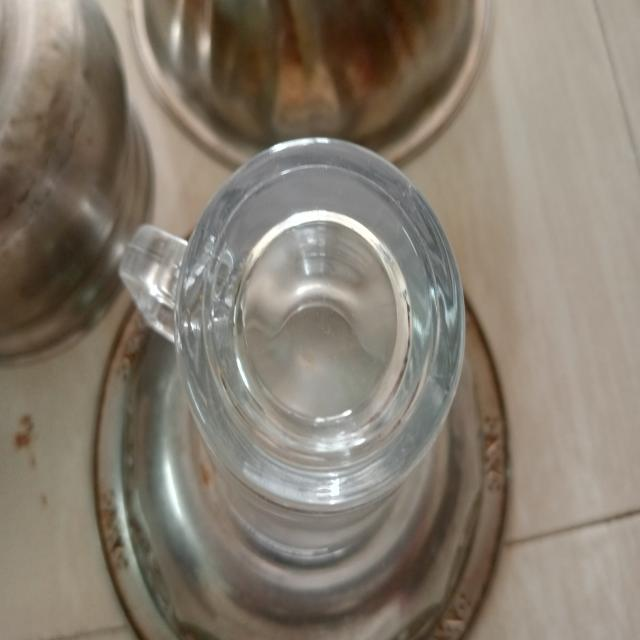glass-VX4N: (120, 127, 472, 570)
